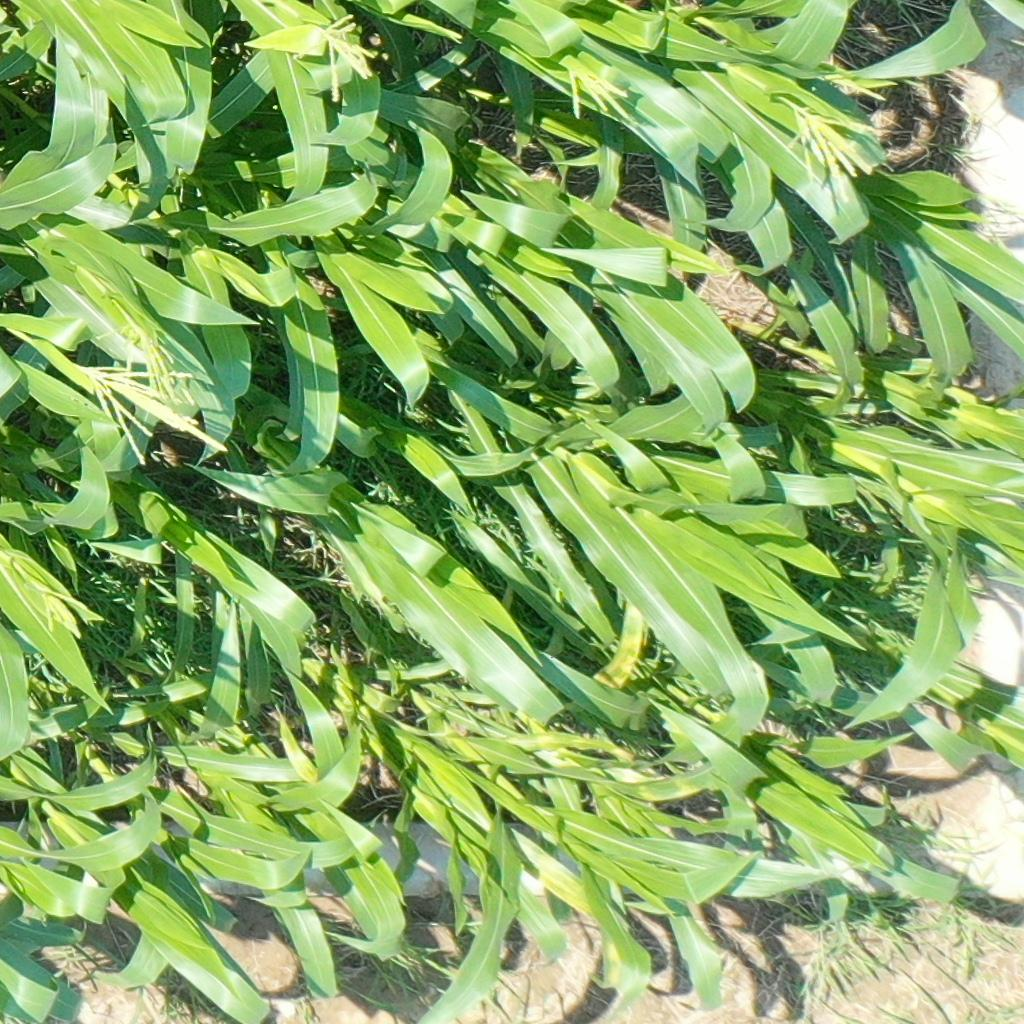Tassel: (69, 357, 231, 468), (92, 295, 199, 407), (788, 69, 888, 185), (292, 11, 382, 102), (561, 62, 639, 122), (31, 582, 84, 639)
